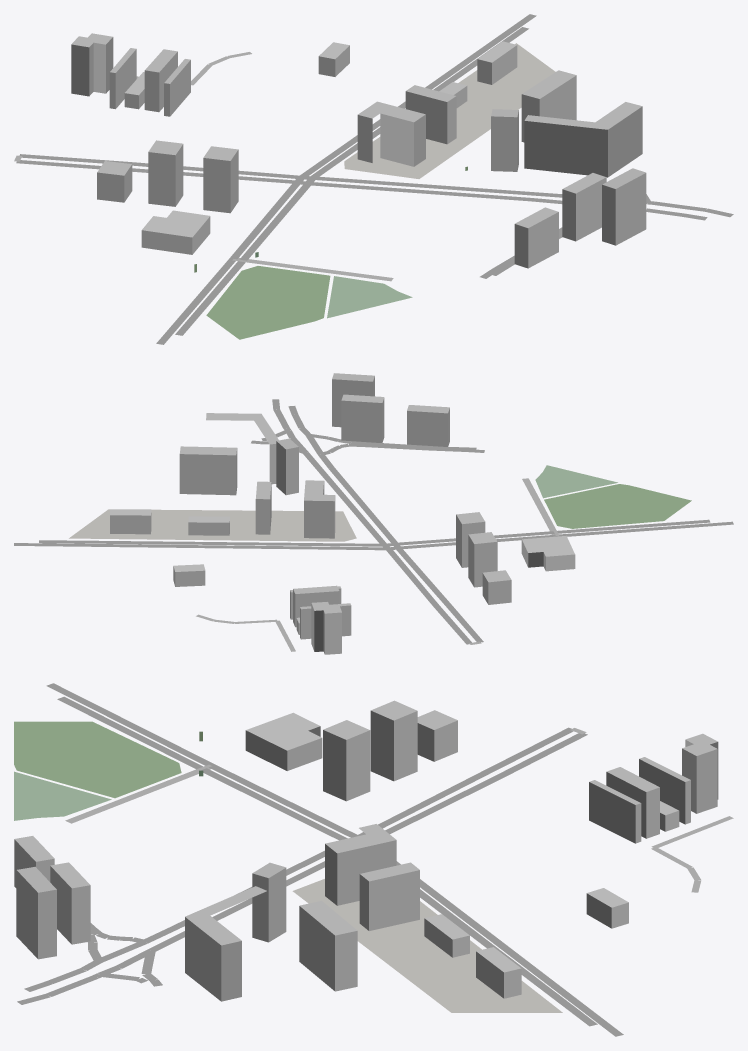
The picture shows the model from 3 angles, top to bottom: view 1: azimuth 30°, elevation 25°; view 2: azimuth 150°, elevation 25°; view 3: azimuth 270°, elevation 25°; orthographic projection. The views are drawn at different scales.
Bounding box in the file's own units: 607 × 54.15 × 519.
